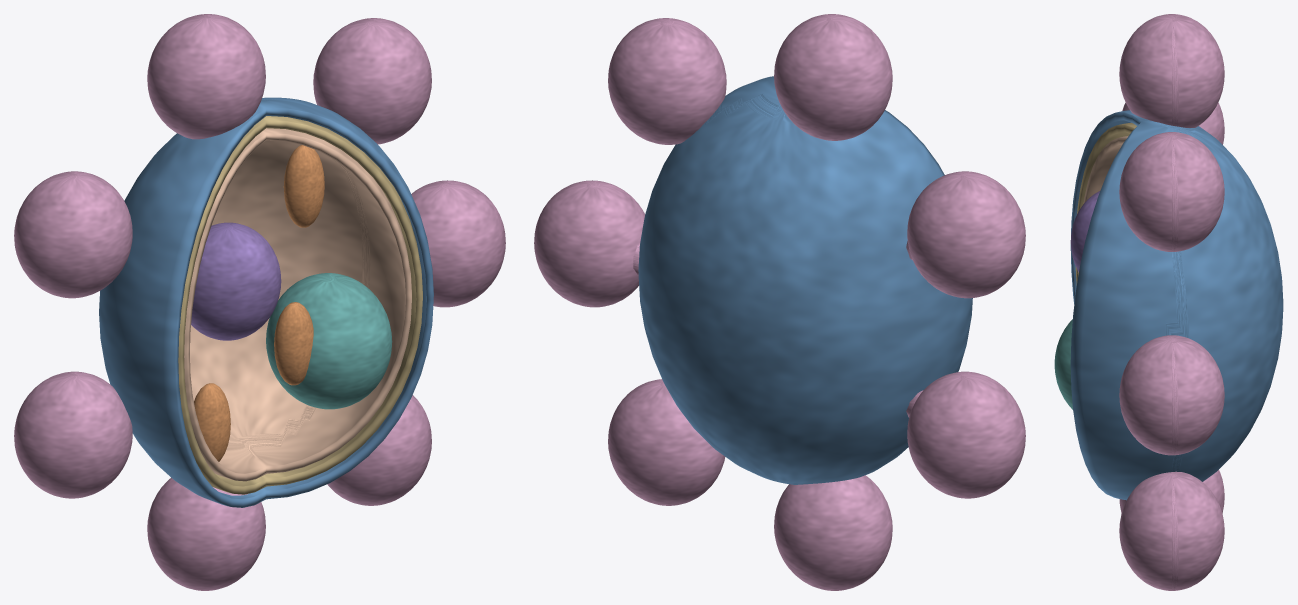
The model's file is cutaway.glb.
The picture shows the model from 3 angles, left to right: view 1: azimuth 30°, elevation 25°; view 2: azimuth 150°, elevation 25°; view 3: azimuth 270°, elevation 25°; orthographic projection. The views are drawn at different scales.
Visible parts, largest first — view 1: broto_mesh, citoplasma_mesh, parede_mesh, vacuolo_mesh, membrana_mesh, nucleo_mesh, mitocondrias_mesh; view 2: parede_mesh, broto_mesh; view 3: parede_mesh, broto_mesh, vacuolo_mesh, membrana_mesh, citoplasma_mesh, nucleo_mesh.
Boxes of the visible parts, x1=… form: broto_mesh: x1=14, y1=14, x2=505, y2=590; citoplasma_mesh: x1=184, y1=128, x2=411, y2=481; parede_mesh: x1=99, y1=97, x2=433, y2=507; vacuolo_mesh: x1=266, y1=273, x2=392, y2=409; membrana_mesh: x1=178, y1=116, x2=422, y2=494; nucleo_mesh: x1=191, y1=222, x2=281, y2=340; mitocondrias_mesh: x1=194, y1=145, x2=324, y2=461; parede_mesh: x1=638, y1=76, x2=972, y2=484; broto_mesh: x1=534, y1=14, x2=1025, y2=590; parede_mesh: x1=1070, y1=110, x2=1283, y2=500; broto_mesh: x1=1119, y1=14, x2=1224, y2=590; vacuolo_mesh: x1=1054, y1=319, x2=1072, y2=409; membrana_mesh: x1=1075, y1=122, x2=1136, y2=285; citoplasma_mesh: x1=1083, y1=136, x2=1128, y2=203; nucleo_mesh: x1=1070, y1=191, x2=1099, y2=272.
Bounding box in the file's own units: 2.56 × 2.9 × 1.13.
Materials: 7 (7 with a texture image).
